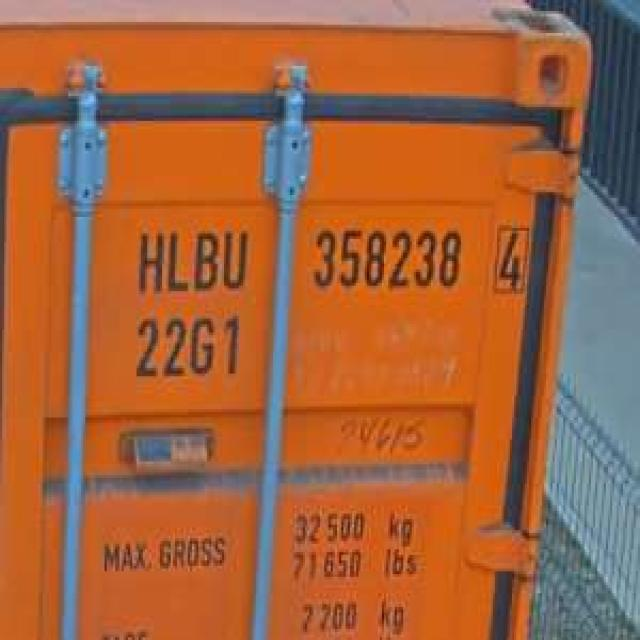dv: (489, 220, 531, 296)
owner: (132, 220, 252, 296)
serial: (307, 220, 465, 296)
size: (130, 310, 248, 384)
